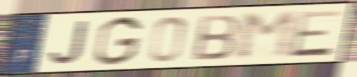0: (148, 14, 189, 64)
B: (190, 13, 242, 62)
E: (287, 8, 344, 59)
G: (92, 14, 145, 67)
J: (48, 19, 90, 67)
M: (235, 9, 299, 62)
